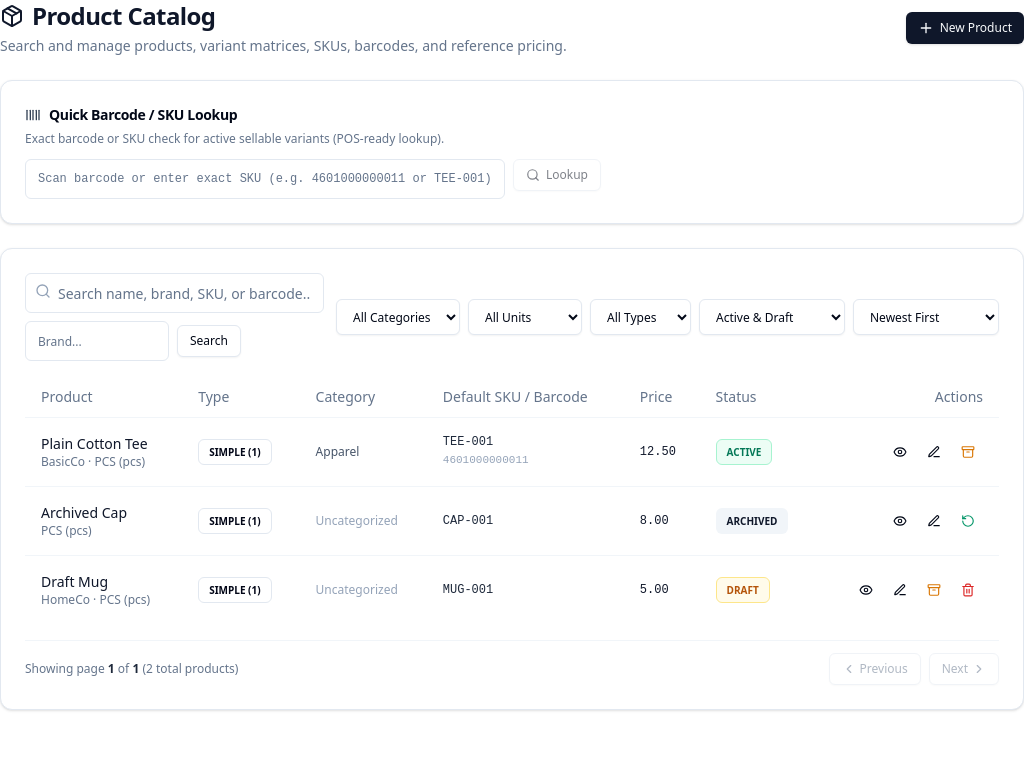
ProductsListPage › performs quick barcode/SKU lookup, handles lookup error, and archives product after confirmation
Later steps or results of the test are not shown.
Step 1. Replace the text in the field named "Lookup barcode or SKU" with "UNKNOWN-SKU" → x=265, y=179, box [25, 159, 505, 199]
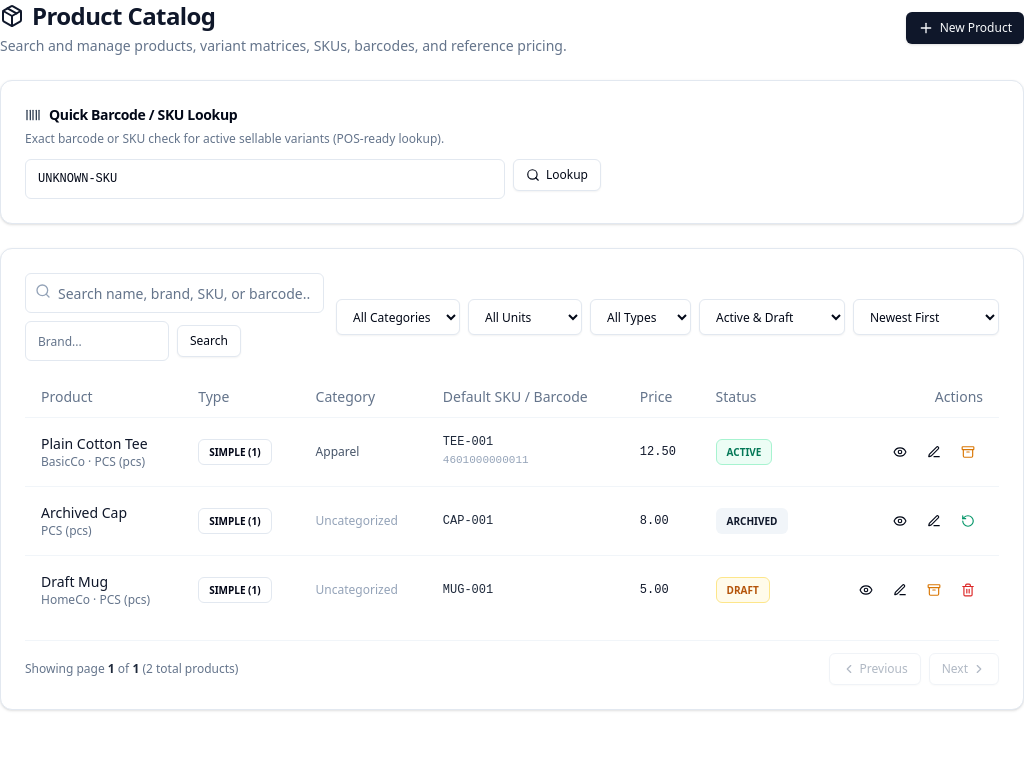
Step 2. Click the button "Lookup" → x=557, y=175, box [513, 159, 601, 191]
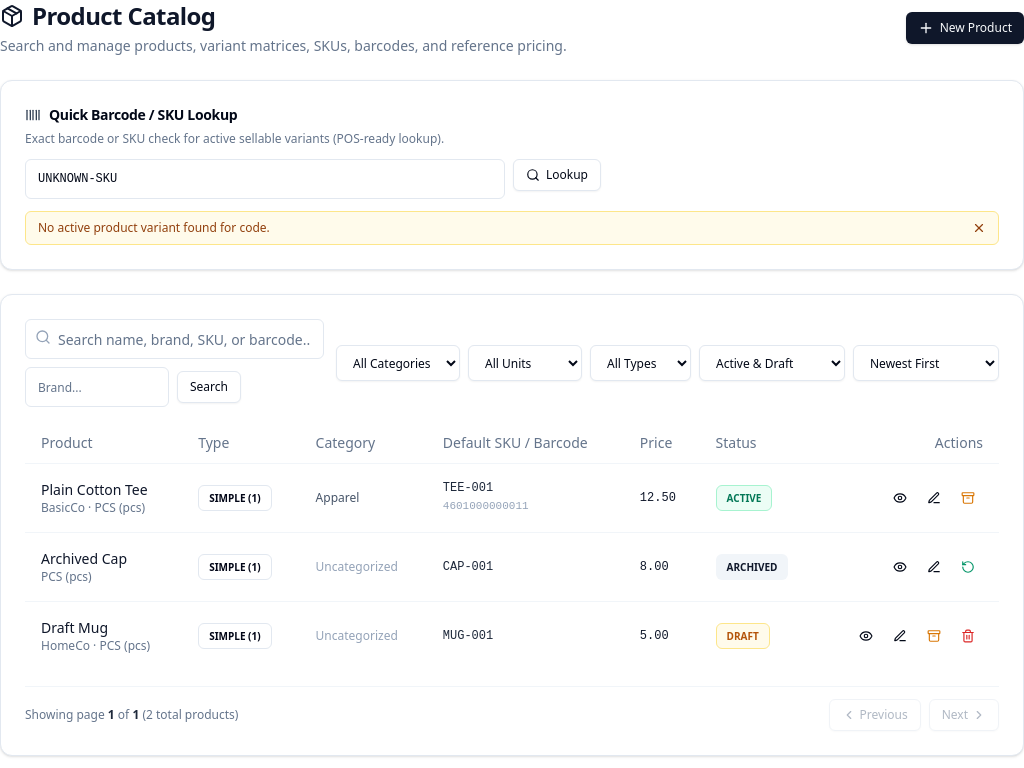
Expected: the text "No active product variant found for code." is shown, [38, 220, 270, 236]
Step 3. Replace the text in the field named "Lookup barcode or SKU" with "4601000000011" → x=265, y=179, box [25, 159, 505, 199]
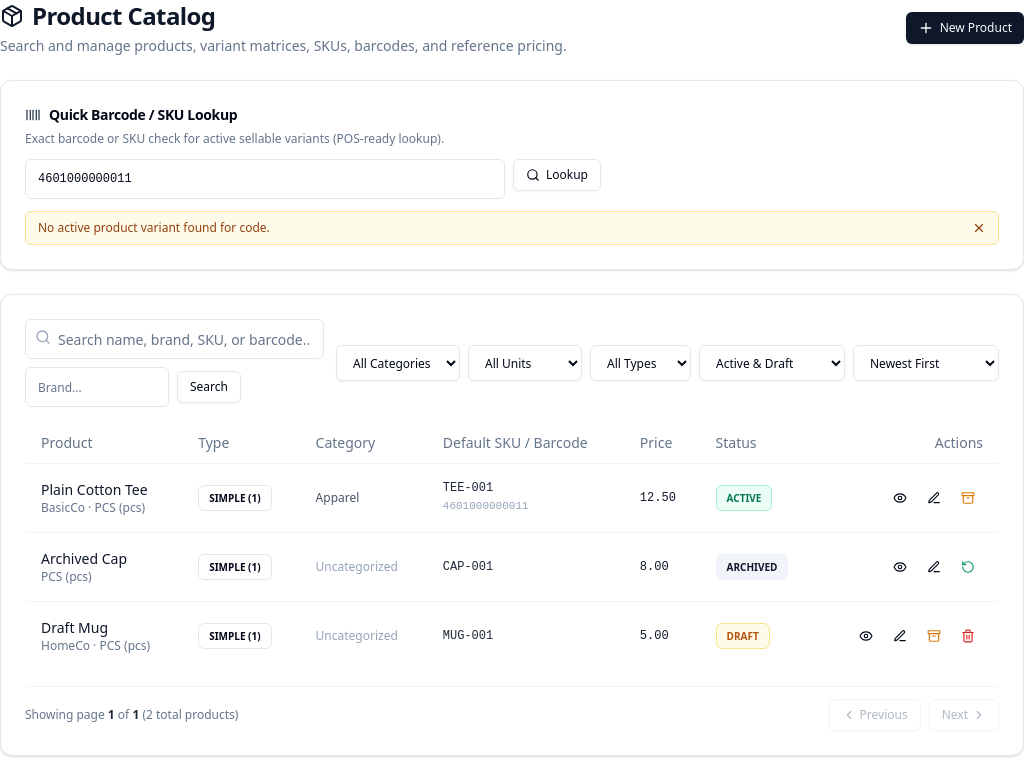
Step 4. Click the button "Lookup" → x=557, y=175, box [513, 159, 601, 191]
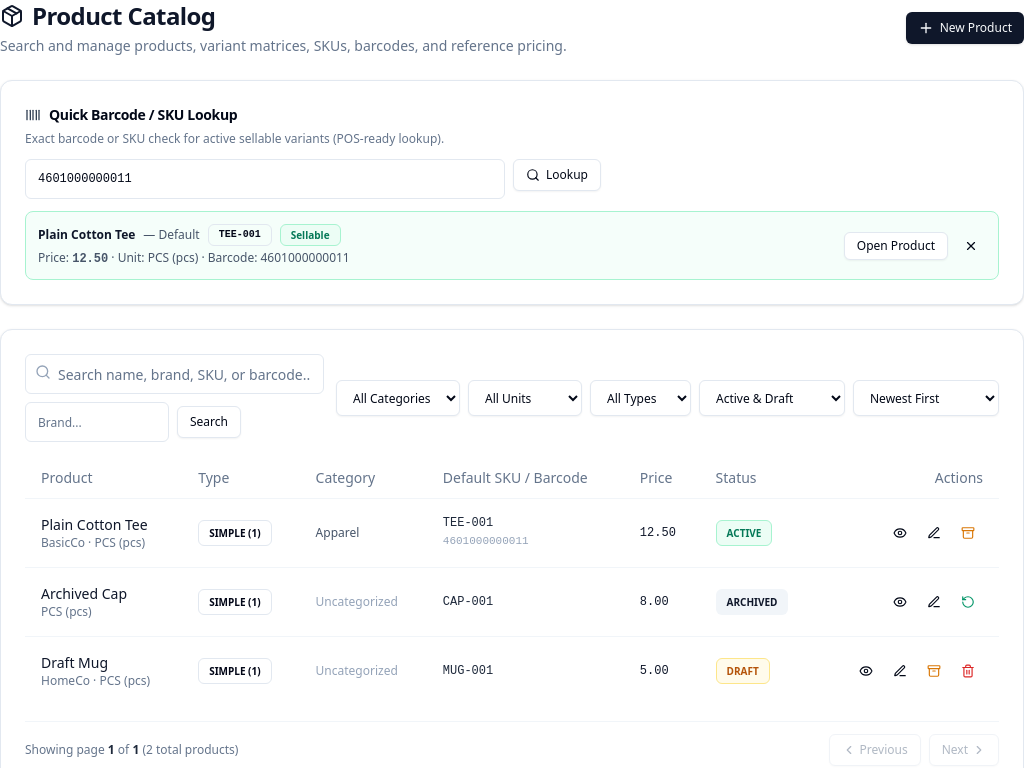
Expected: the text "Sellable" is shown, [280, 224, 341, 246]
